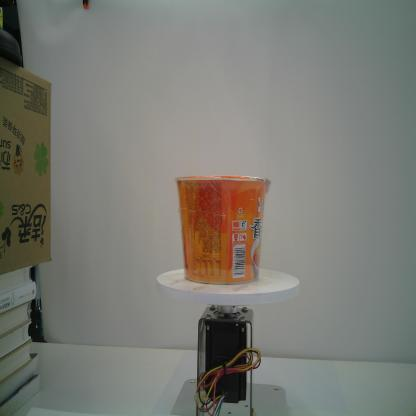Instant Noodles: (172, 173, 272, 287)
